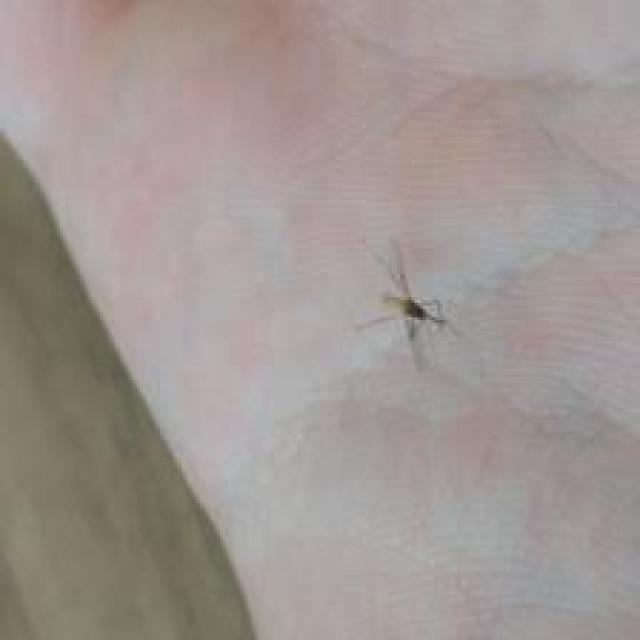Culex: (350, 236, 461, 370)
